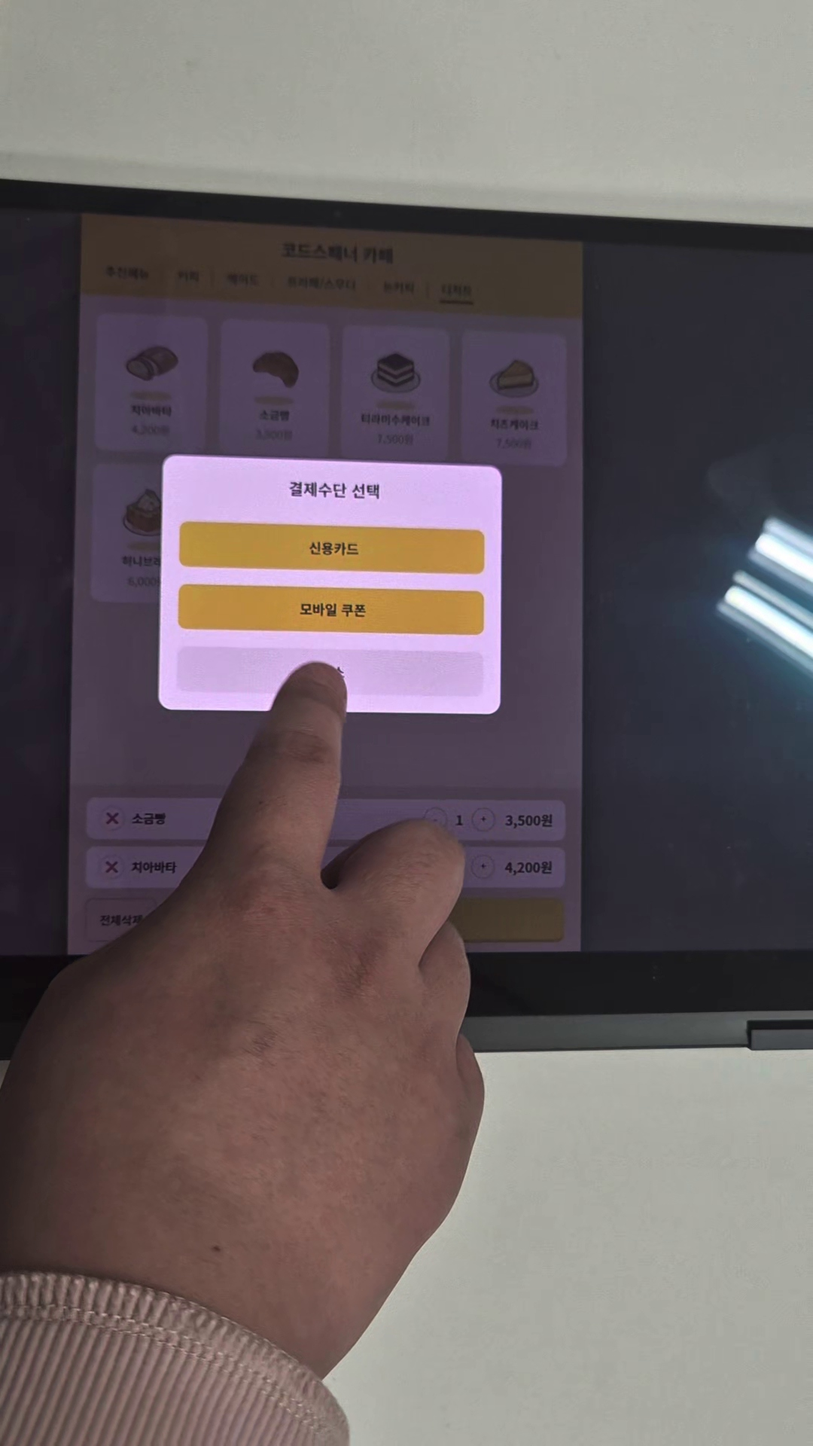action_button: (180, 651, 487, 699)
option_button: (179, 520, 484, 576), (179, 582, 484, 635)
popup_modal: (157, 456, 502, 715)
